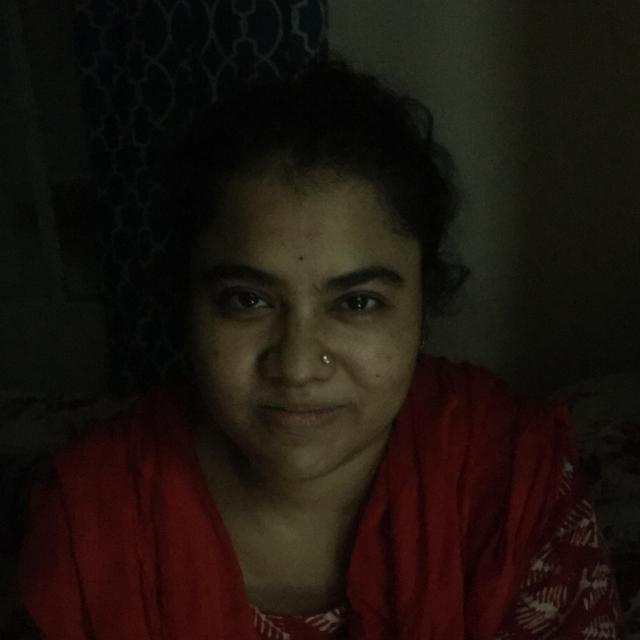Natural: (157, 130, 455, 497)
